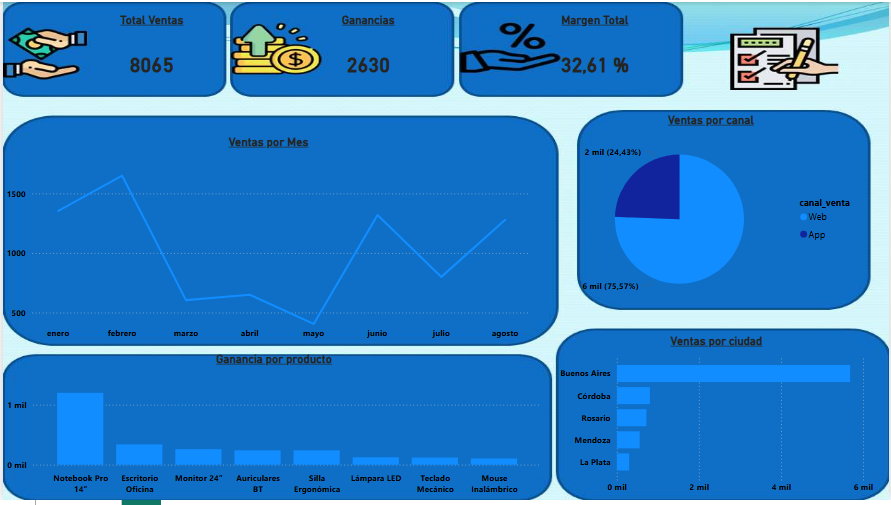

This screenshot's page, from the dashboard's own definition file:
{"tool":"powerbi","page":{"name":"Página 1","canvas":[1280,720],"ordinal":0},"visuals":[{"type":"card","title":"Total Ventas","fields":{"Values":["Sum(dataset_ventas_limpio.ventas)"]},"box":[112,16,208,128],"z":0},{"type":"card","title":"Ganancias","fields":{"Values":["Sum(dataset_ventas_limpio.ganancia)"]},"box":[432,16,192,128],"z":1000},{"type":"card","title":"Margen Total","fields":{"Values":["dataset_ventas_limpio.MedidaMargen % Total"]},"box":[736,16,240,128],"z":2000},{"type":"lineChart","title":"Ventas por Mes","fields":{"Category":["dataset_ventas_limpio.mes.Variación.Jerarquía de fechas.Mes"],"Y":["Sum(dataset_ventas_limpio.ventas)"]},"box":[0,192,768,304],"z":3000},{"type":"clusteredColumnChart","title":"Ganancia por producto","fields":{"Category":["dataset_ventas_limpio.nombre_producto"],"Y":["Sum(dataset_ventas_limpio.ganancia)"]},"box":[0,506,784,214],"z":4000},{"type":"clusteredBarChart","title":"Ventas por ciudad","fields":{"Y":["Sum(dataset_ventas_limpio.ventas)"],"Category":["dataset_ventas_limpio.ciudad"]},"box":[800,480,464,240],"z":5000},{"type":"pieChart","title":"Ventas por canal","fields":{"Category":["dataset_ventas_limpio.canal_venta"],"Y":["Sum(dataset_ventas_limpio.ventas)"]},"box":[800,160,448,288],"z":6000}]}

Visuals, with their boxes in screenshot pixels (x1, y1, x2, y2), scaled from the page's 1280x720 canvas onto the 891x505 screenshot:
"Total Ventas" card: l=78, t=11, r=223, b=101
"Ganancias" card: l=301, t=11, r=434, b=101
"Margen Total" card: l=512, t=11, r=679, b=101
"Ventas por Mes" lineChart: l=0, t=135, r=535, b=348
"Ganancia por producto" clusteredColumnChart: l=0, t=355, r=546, b=504
"Ventas por ciudad" clusteredBarChart: l=557, t=337, r=880, b=504
"Ventas por canal" pieChart: l=557, t=112, r=869, b=314
